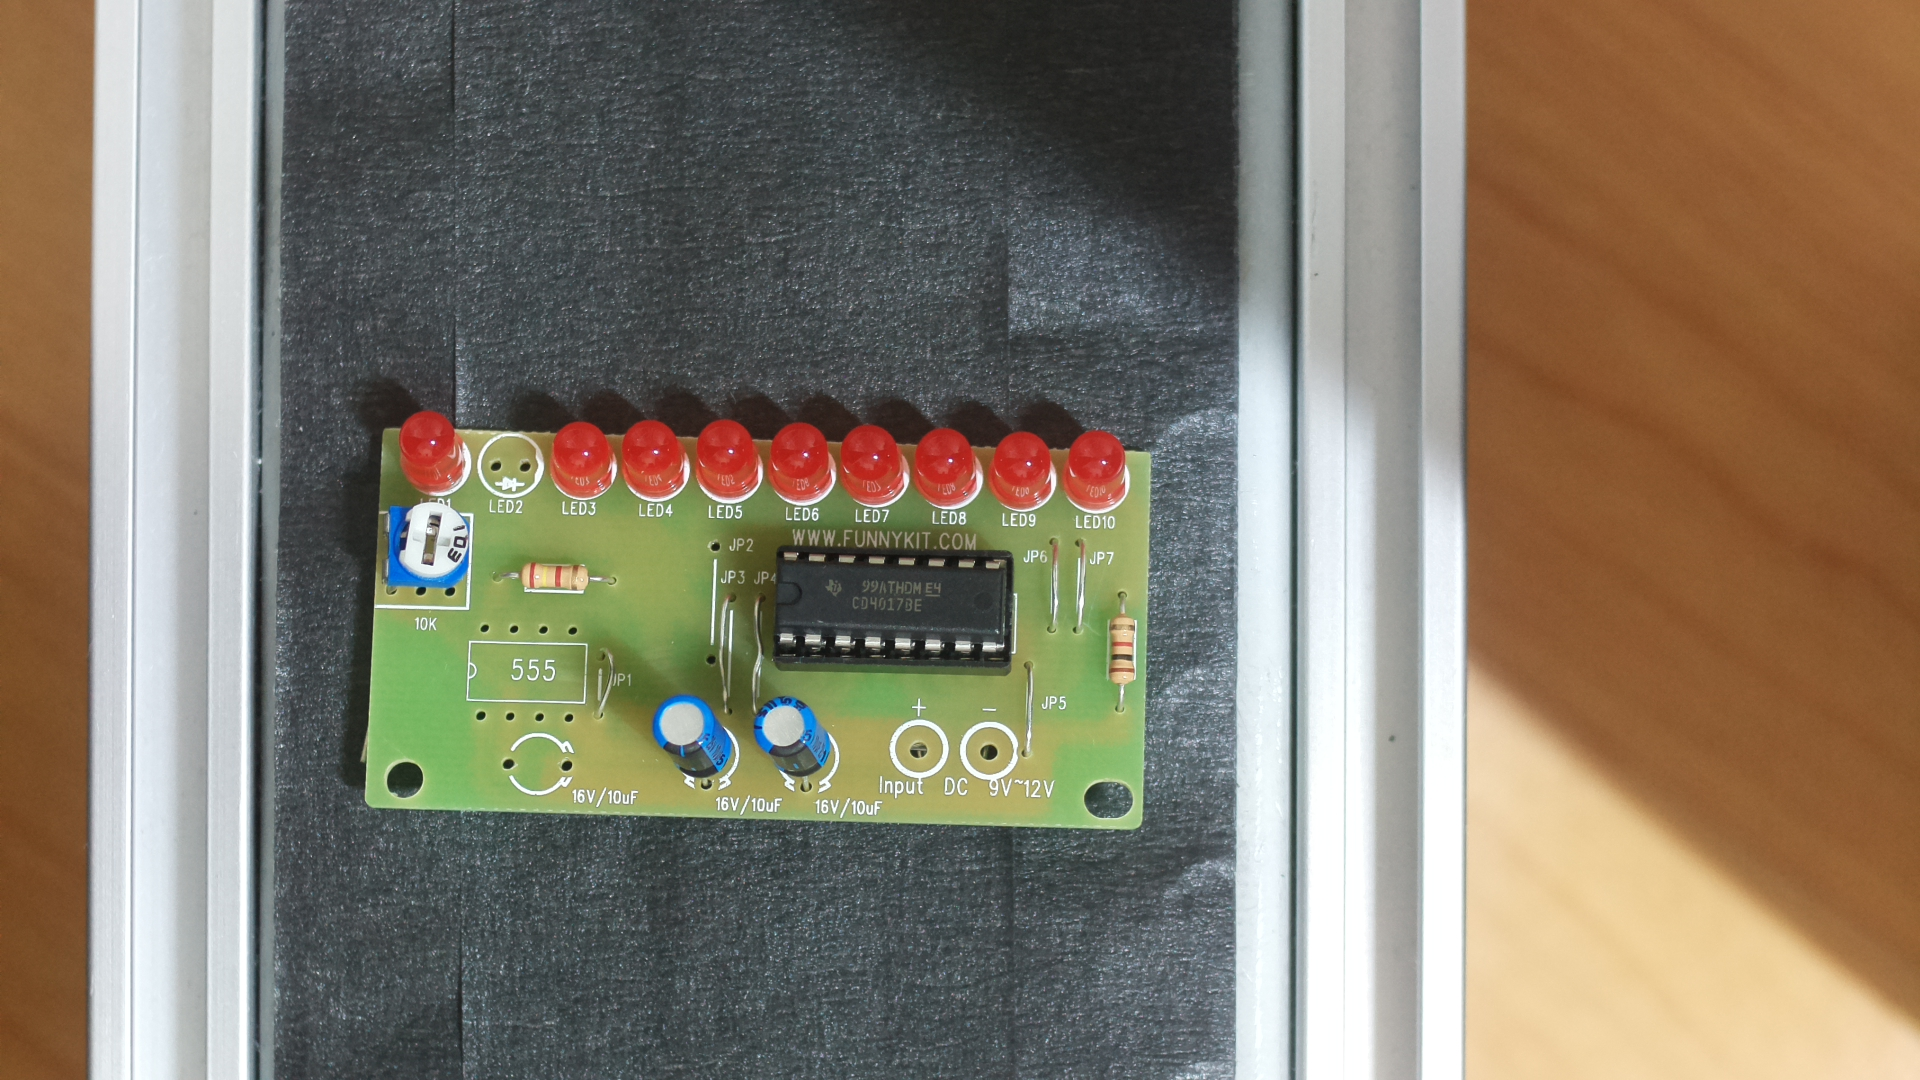B_Missing_part: (352, 400, 1168, 855)
